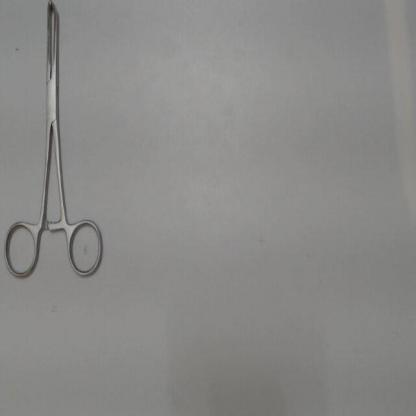Allis Tissue Forceps: (1, 0, 109, 286)
